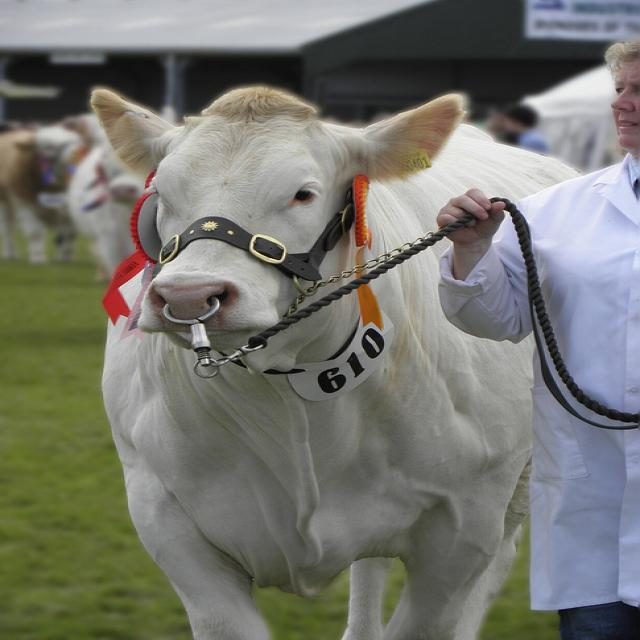cow: (86, 82, 578, 631), (39, 116, 143, 275), (0, 122, 79, 264)
